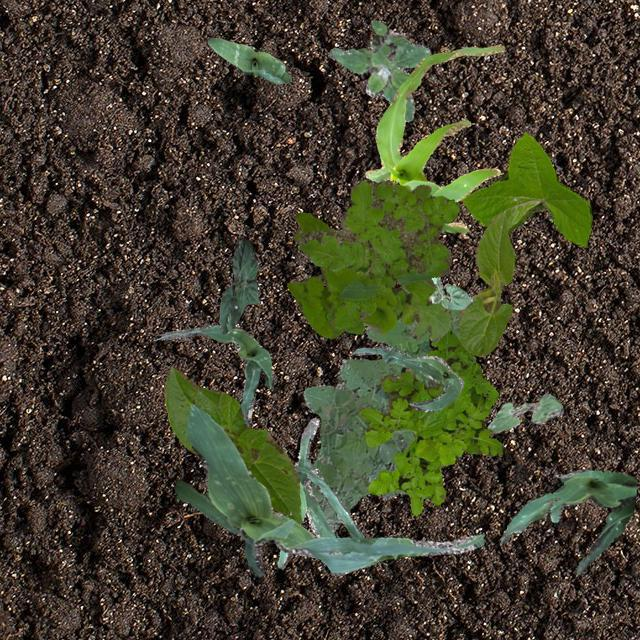crop: (173, 402, 482, 576), (364, 44, 504, 232), (164, 368, 300, 524), (461, 132, 592, 246), (499, 468, 635, 574), (276, 417, 362, 568), (158, 324, 272, 426), (458, 210, 514, 356), (352, 344, 462, 410), (206, 36, 292, 82), (218, 236, 258, 334), (487, 392, 562, 432), (428, 276, 472, 308)
weed: (303, 286, 459, 530), (358, 328, 504, 514), (296, 178, 458, 332), (286, 212, 450, 341), (328, 19, 429, 120)
